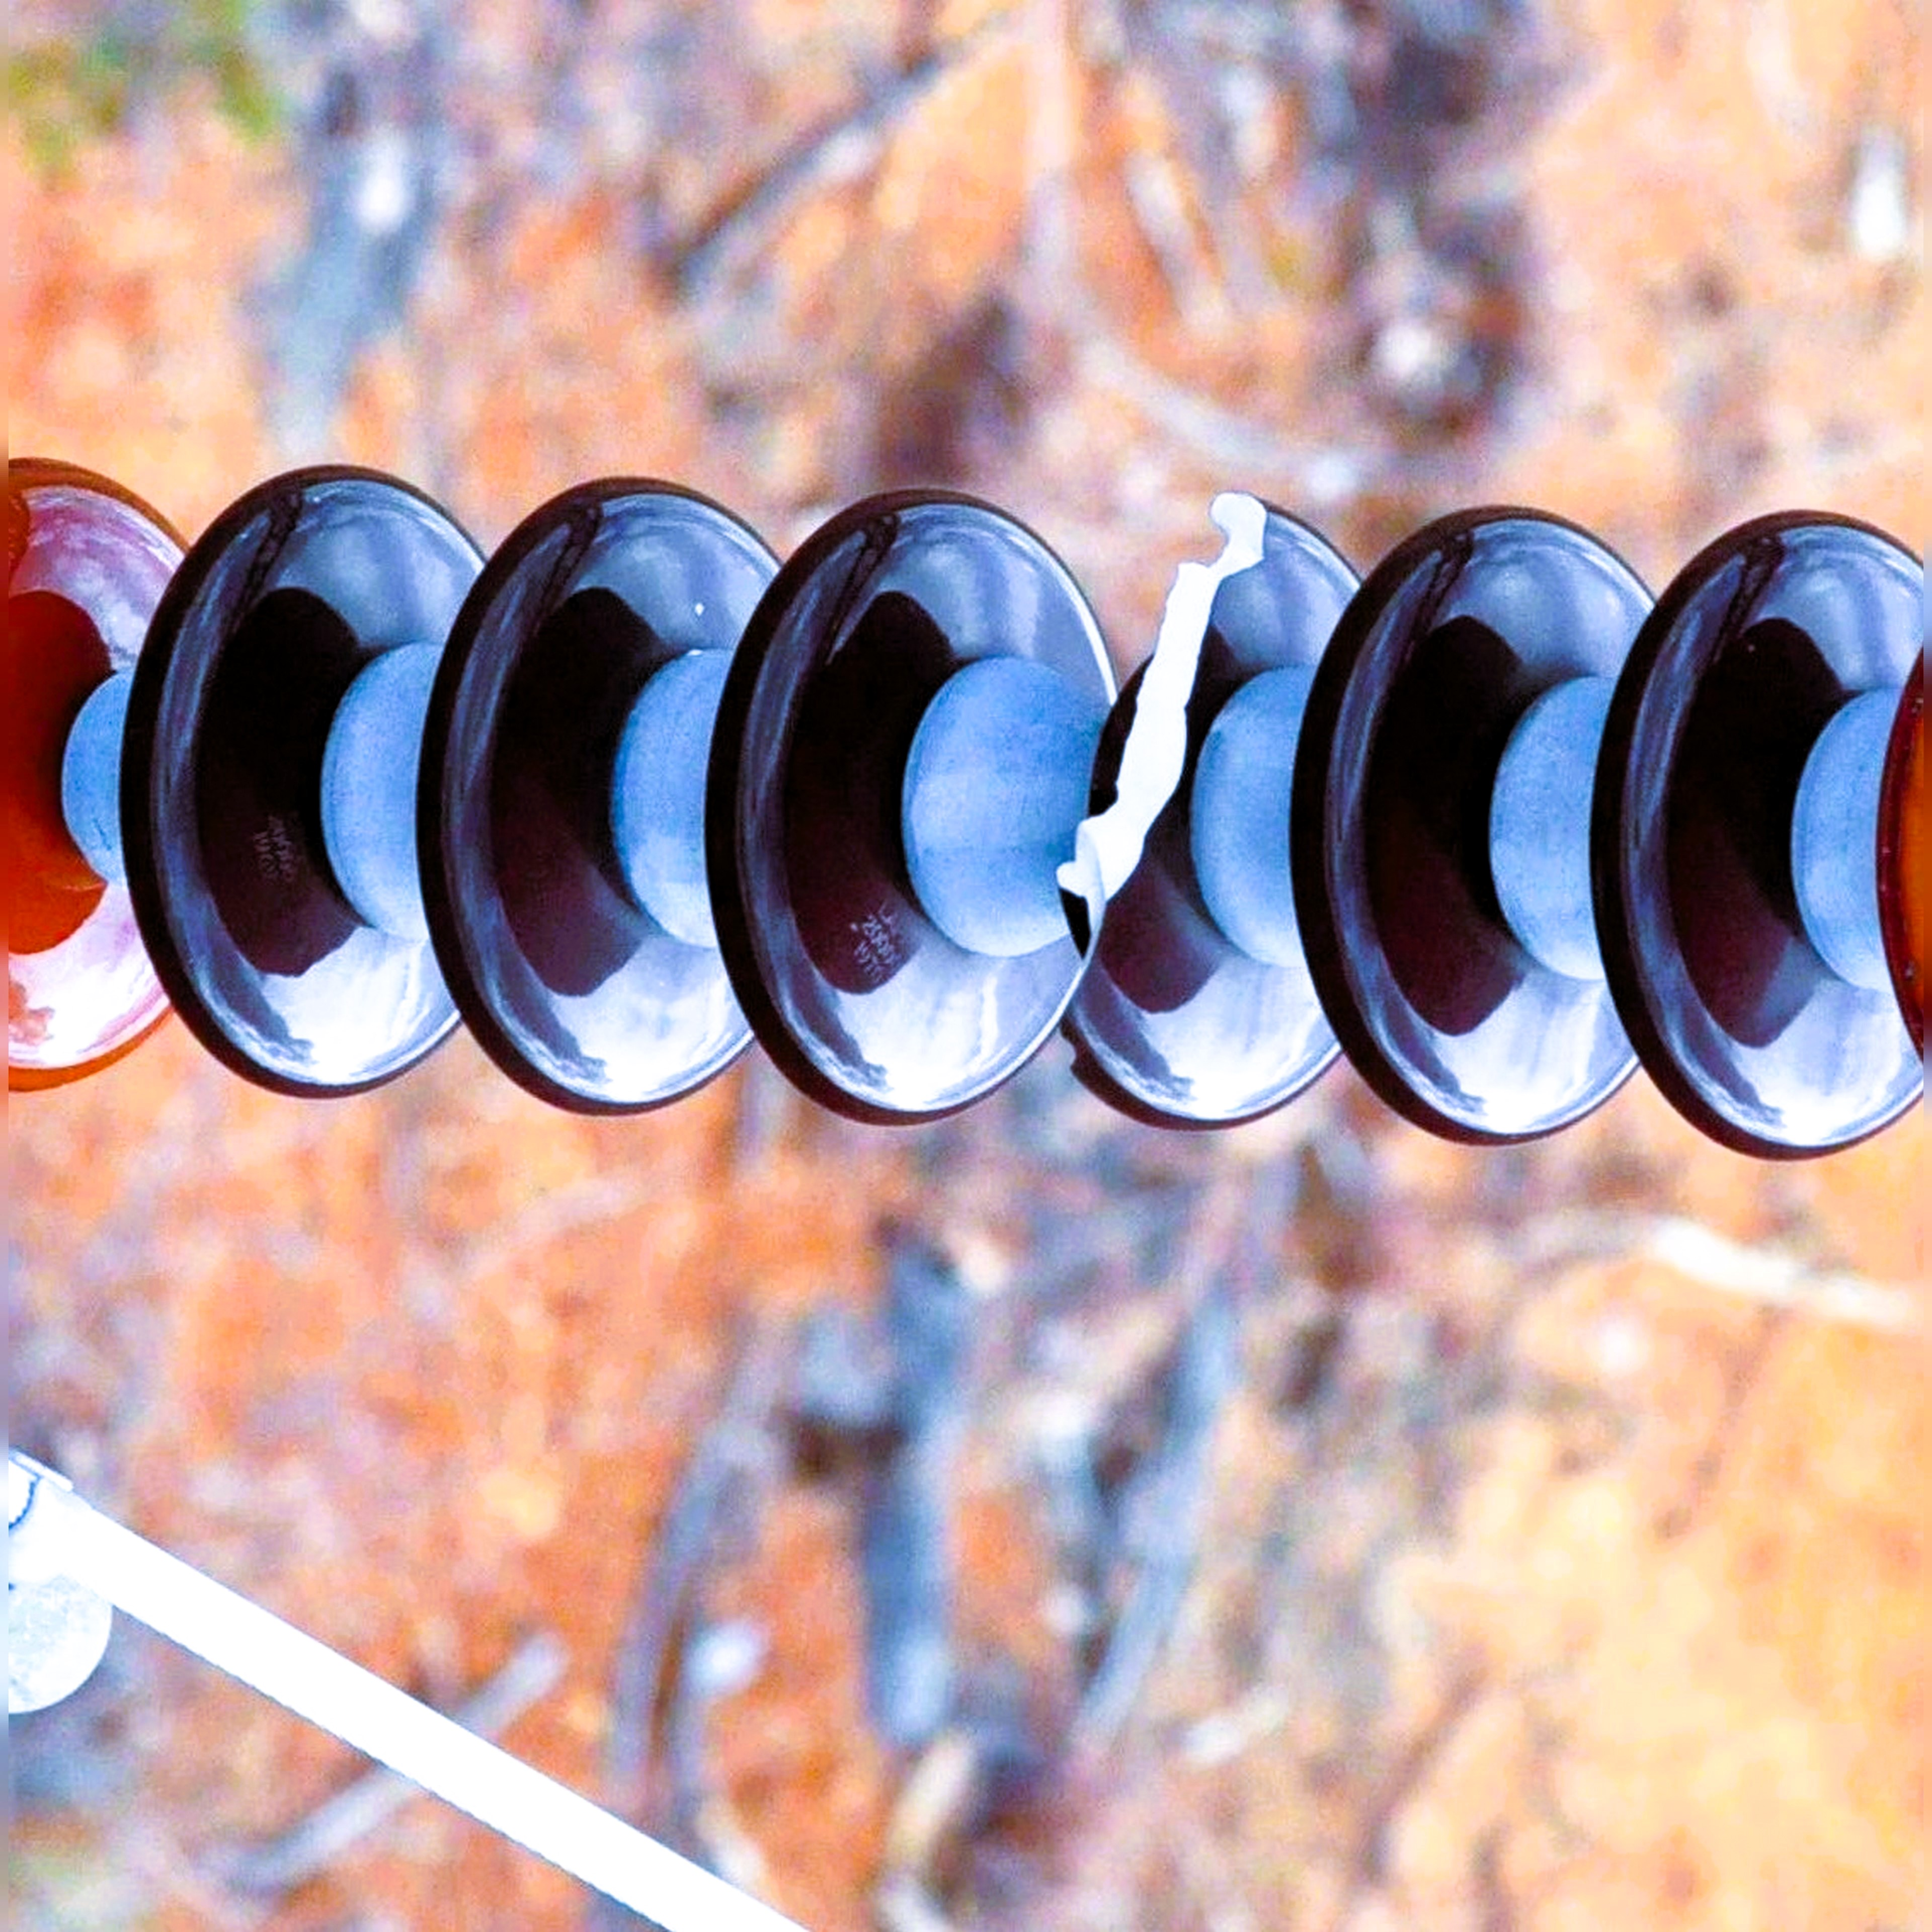insulator breakage: (1039, 437, 1368, 1173)
